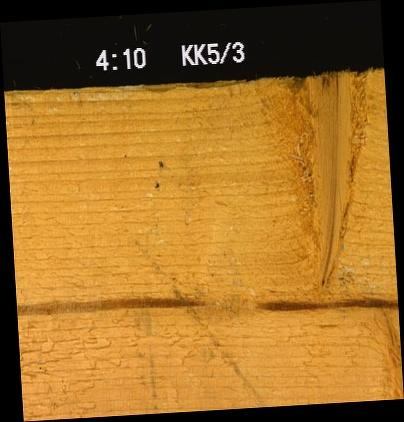wave: (140, 79, 261, 90)
